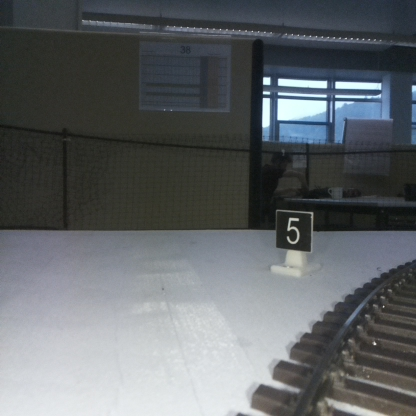black-stop-5: (276, 210, 311, 275)
